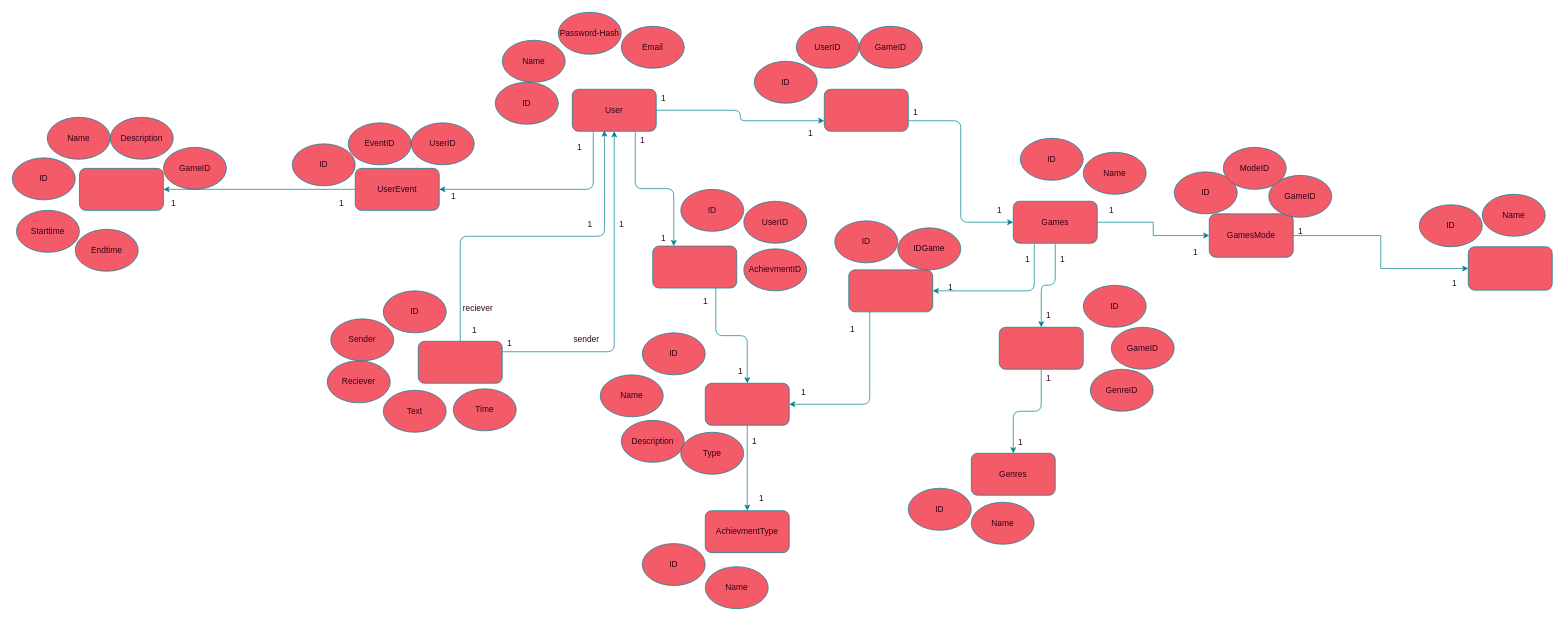
Image size: 1565x621. Some labels were removed from this diagram. The centre of each missing label's shape, as x and y in pixels:
Achievments: pixel 747 404
Events: pixel 121 189
GameAchievment: pixel 890 290
GamesGenre: pixel 1041 348
Messages: pixel 460 362
Modes: pixel 1510 268
UserAchievment: pixel 694 266
UserGames: pixel 866 110
